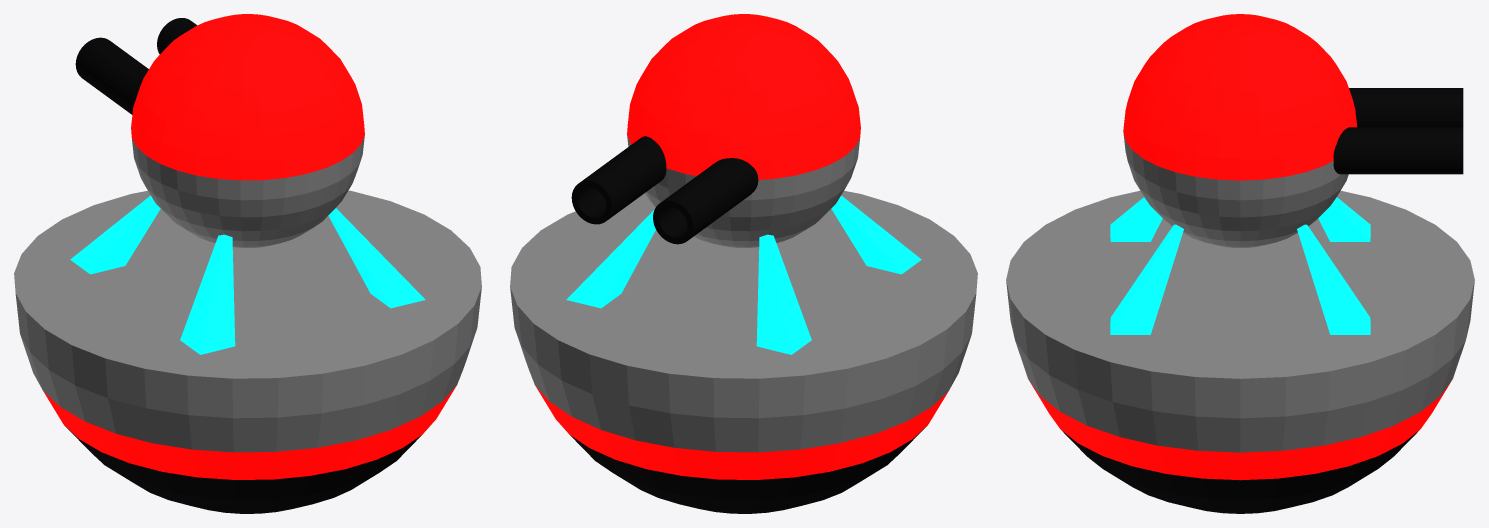
File: Andromeda.fbx
The picture shows the model from 3 angles, left to right: view 1: azimuth 30°, elevation 25°; view 2: azimuth 150°, elevation 25°; view 3: azimuth 270°, elevation 25°; orthographic projection.
Visible parts, largest first — view 1: Sphere; view 2: Sphere; view 3: Sphere.
Part boxes in pixels (x1,y1,x2,y2): Sphere: (14,14,481,513); Sphere: (510,14,977,513); Sphere: (1006,14,1474,513).
Size of the model in its own units: 200 by 220 by 200.
